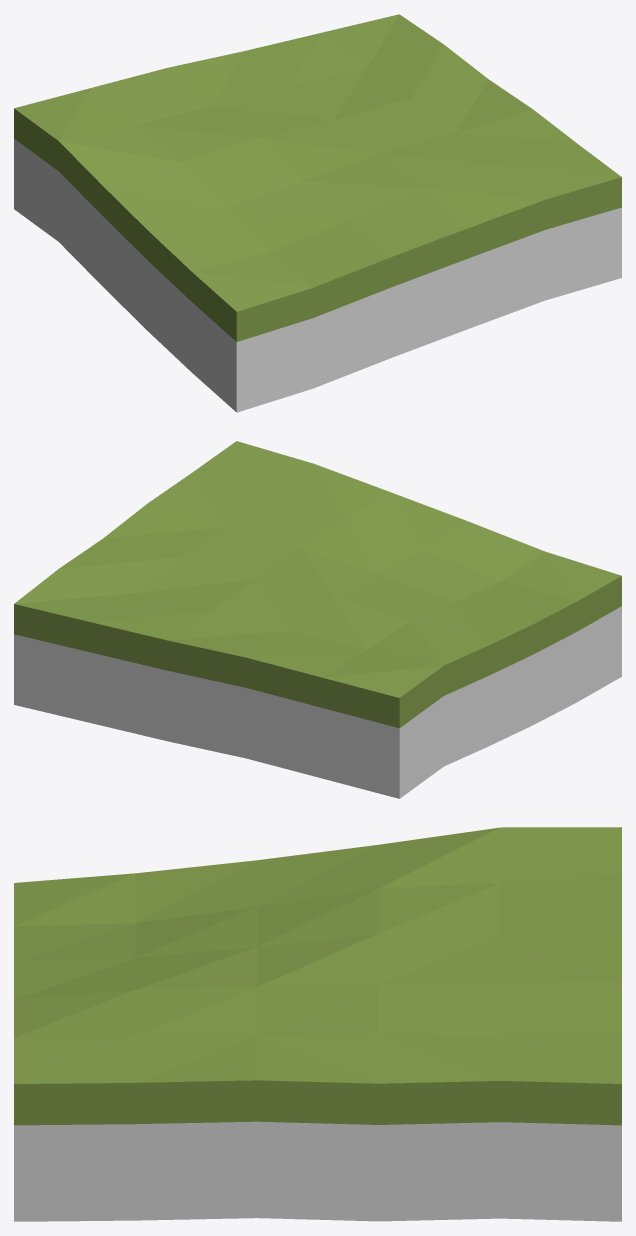
File: terrain-world-valley_01-4.fbx
3 views of the same model, one above another, from view 1: azimuth 30°, elevation 25°; view 2: azimuth 150°, elevation 25°; view 3: azimuth 270°, elevation 25° (orthographic). The views are drawn at different scales.
Visible parts, largest first — view 1: terrain-world-valley_01-4; view 2: terrain-world-valley_01-4; view 3: terrain-world-valley_01-4.
Part boxes in pixels (x1,y1,x2,y2): terrain-world-valley_01-4: (14, 14, 621, 412); terrain-world-valley_01-4: (14, 441, 621, 798); terrain-world-valley_01-4: (14, 827, 621, 1221).
Bounding box in the file's own units: 20 × 7.17 × 20.
